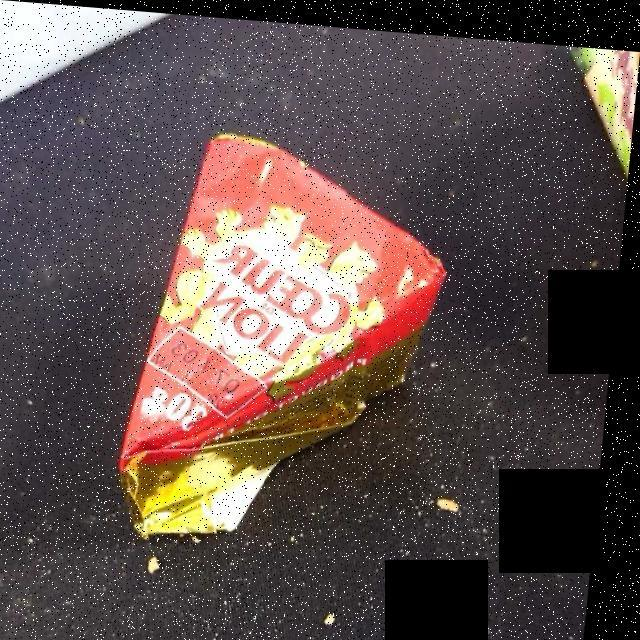cheese: (131, 138, 445, 530)
